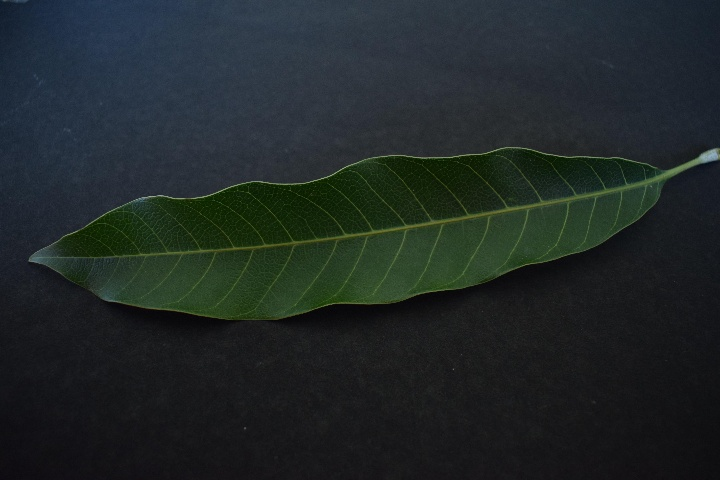healthy: (33, 151, 679, 321)
